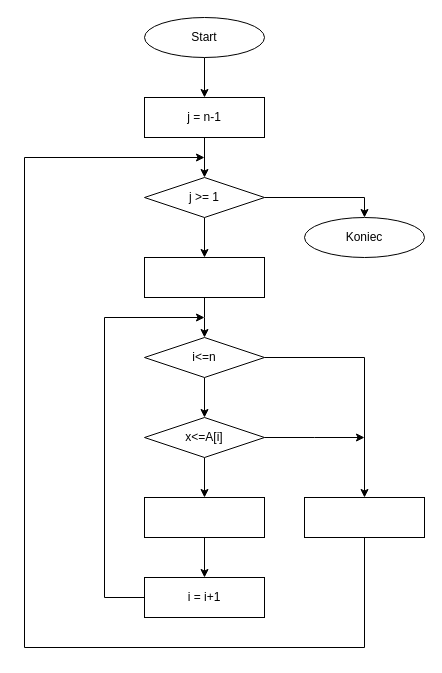
This 442x673 diagram has some shape labels left out. The centre of each missing label's shape, as x and y in pixels:
"A[i-1] = A[i]" goes at point (204, 517).
"A[i-1] = klucz j = j -1" goes at point (364, 517).
"klucz = A[j] j = j+1" goes at point (204, 277).
